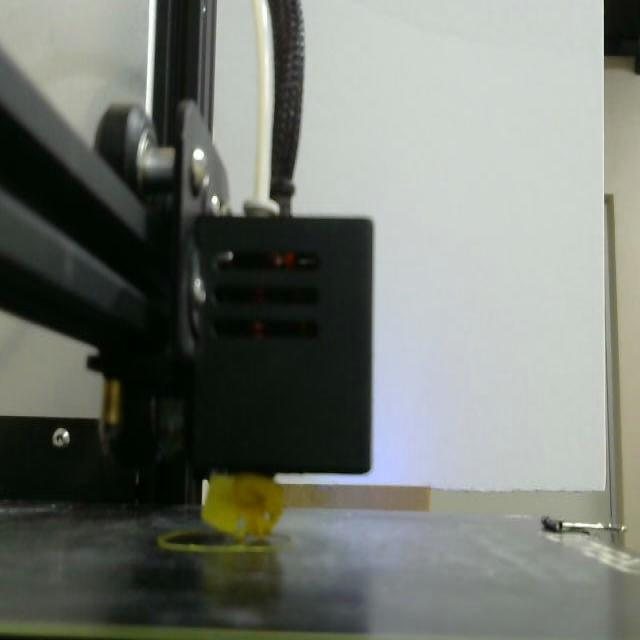spaghetti: (202, 473, 284, 539)
